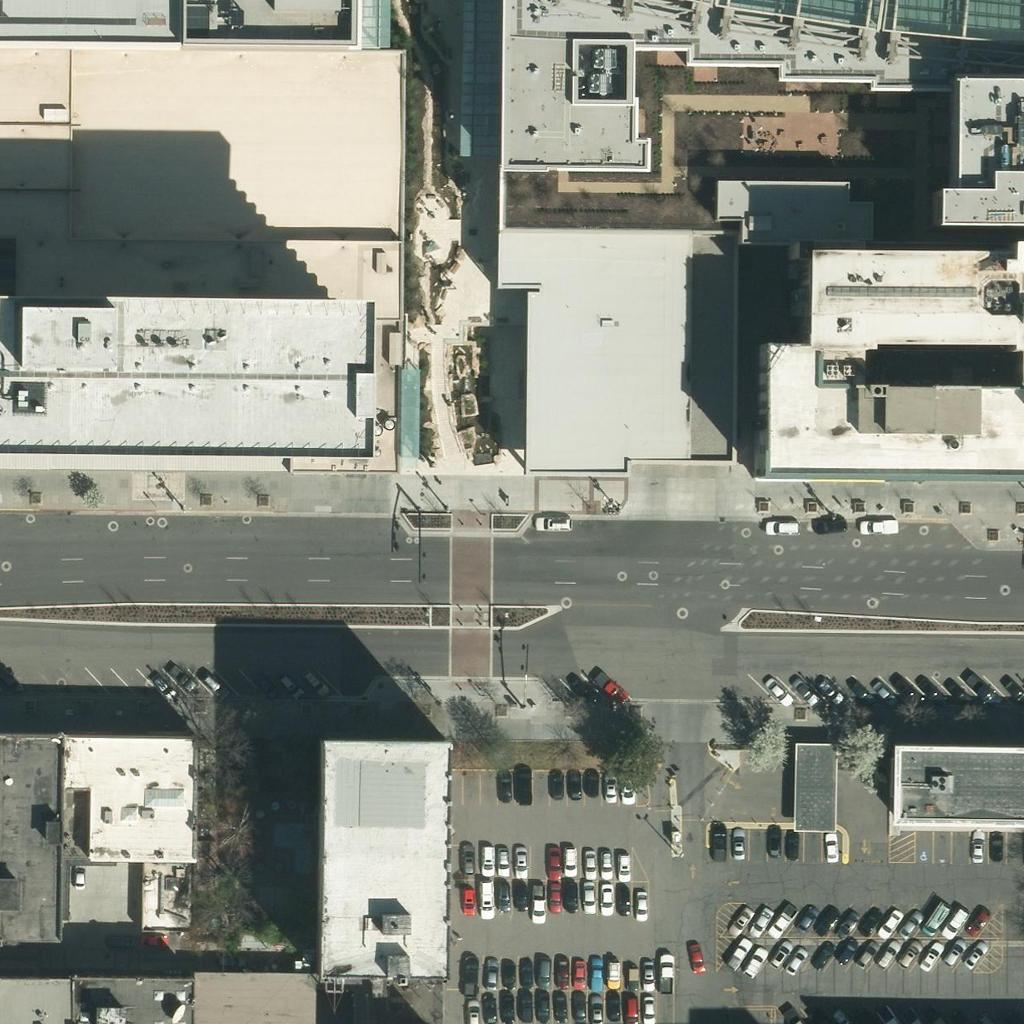car: (535, 505, 569, 539), (810, 508, 844, 542), (859, 509, 893, 543), (768, 510, 802, 544), (162, 663, 196, 697), (295, 663, 329, 697), (273, 667, 307, 701), (145, 668, 179, 702), (195, 668, 229, 702), (247, 668, 281, 702), (595, 671, 629, 705), (567, 672, 601, 706), (786, 673, 820, 707), (812, 673, 846, 707), (913, 673, 947, 707), (940, 673, 974, 707), (967, 673, 1001, 707), (759, 674, 793, 708), (844, 674, 878, 708), (891, 674, 925, 708), (867, 676, 901, 710), (573, 766, 607, 800), (508, 767, 542, 801), (537, 767, 571, 801), (486, 768, 520, 802), (557, 768, 591, 802), (486, 769, 520, 803), (591, 769, 625, 803), (610, 769, 644, 803), (701, 825, 735, 859), (756, 825, 790, 859), (979, 826, 1013, 860), (720, 828, 754, 862), (776, 828, 810, 862), (813, 829, 847, 863), (960, 834, 994, 868), (470, 840, 504, 874), (486, 842, 520, 876), (503, 842, 537, 876), (552, 842, 586, 876), (553, 842, 587, 876), (536, 844, 570, 878), (572, 844, 606, 878), (572, 845, 606, 879), (589, 845, 623, 879), (449, 848, 483, 882), (605, 848, 639, 882), (60, 860, 94, 894), (504, 874, 538, 908), (486, 879, 520, 913), (553, 879, 587, 913), (571, 879, 605, 913), (605, 879, 639, 913), (535, 880, 569, 914), (588, 880, 622, 914), (450, 882, 484, 916), (470, 883, 504, 917), (624, 887, 658, 921), (521, 889, 555, 923), (964, 901, 998, 935), (724, 903, 758, 937), (808, 903, 842, 937), (744, 904, 778, 938), (788, 904, 822, 938), (850, 904, 884, 938), (916, 904, 950, 938), (764, 905, 798, 939), (871, 906, 905, 940), (938, 906, 972, 940), (830, 907, 864, 941), (892, 907, 926, 941), (104, 923, 138, 957), (136, 924, 170, 958), (723, 934, 757, 968), (831, 935, 865, 969), (764, 936, 798, 970), (850, 936, 884, 970), (871, 936, 905, 970), (805, 937, 839, 971), (937, 937, 971, 971), (892, 938, 926, 972), (956, 938, 990, 972), (678, 939, 712, 973), (914, 939, 948, 973), (778, 942, 812, 976), (214, 943, 248, 977), (735, 946, 769, 980), (651, 953, 685, 987), (526, 954, 560, 988), (493, 956, 527, 990), (544, 956, 578, 990), (562, 956, 596, 990), (580, 956, 614, 990), (474, 957, 508, 991), (631, 957, 665, 991), (454, 958, 488, 992), (509, 958, 543, 992), (597, 958, 631, 992), (615, 964, 649, 998), (473, 987, 507, 1021), (491, 988, 525, 1022), (509, 988, 543, 1022), (526, 988, 560, 1022), (562, 990, 596, 1024), (563, 990, 597, 1024), (597, 990, 631, 1024), (543, 991, 577, 1024), (630, 992, 664, 1024), (616, 993, 650, 1024), (579, 994, 613, 1024), (997, 672, 1024, 706), (456, 997, 490, 1024), (825, 1003, 859, 1024)
